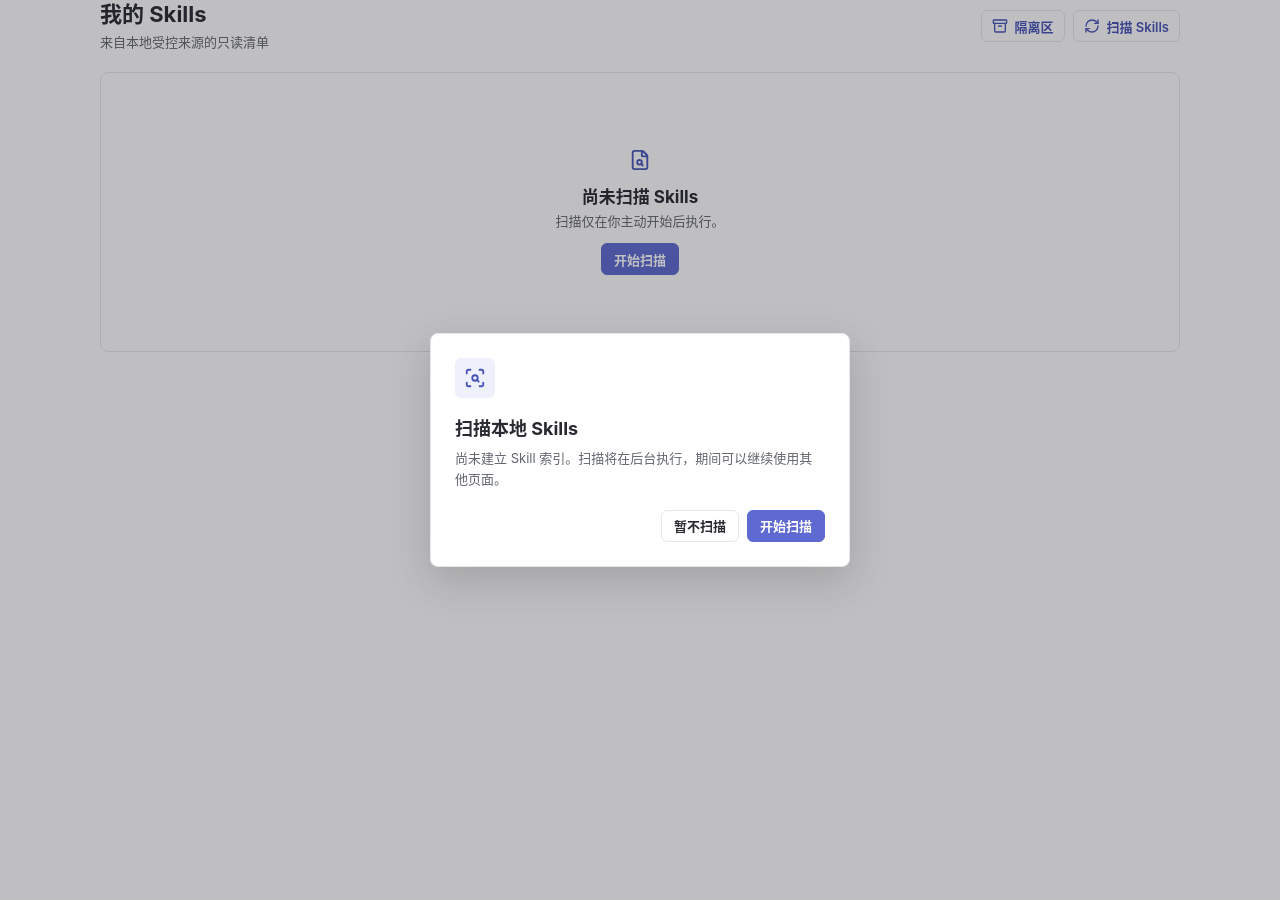
Test: SkillsPage › starts the first scan only after explicit confirmation
Click the button "开始扫描".
click(786, 526)  # box [747, 510, 825, 542]
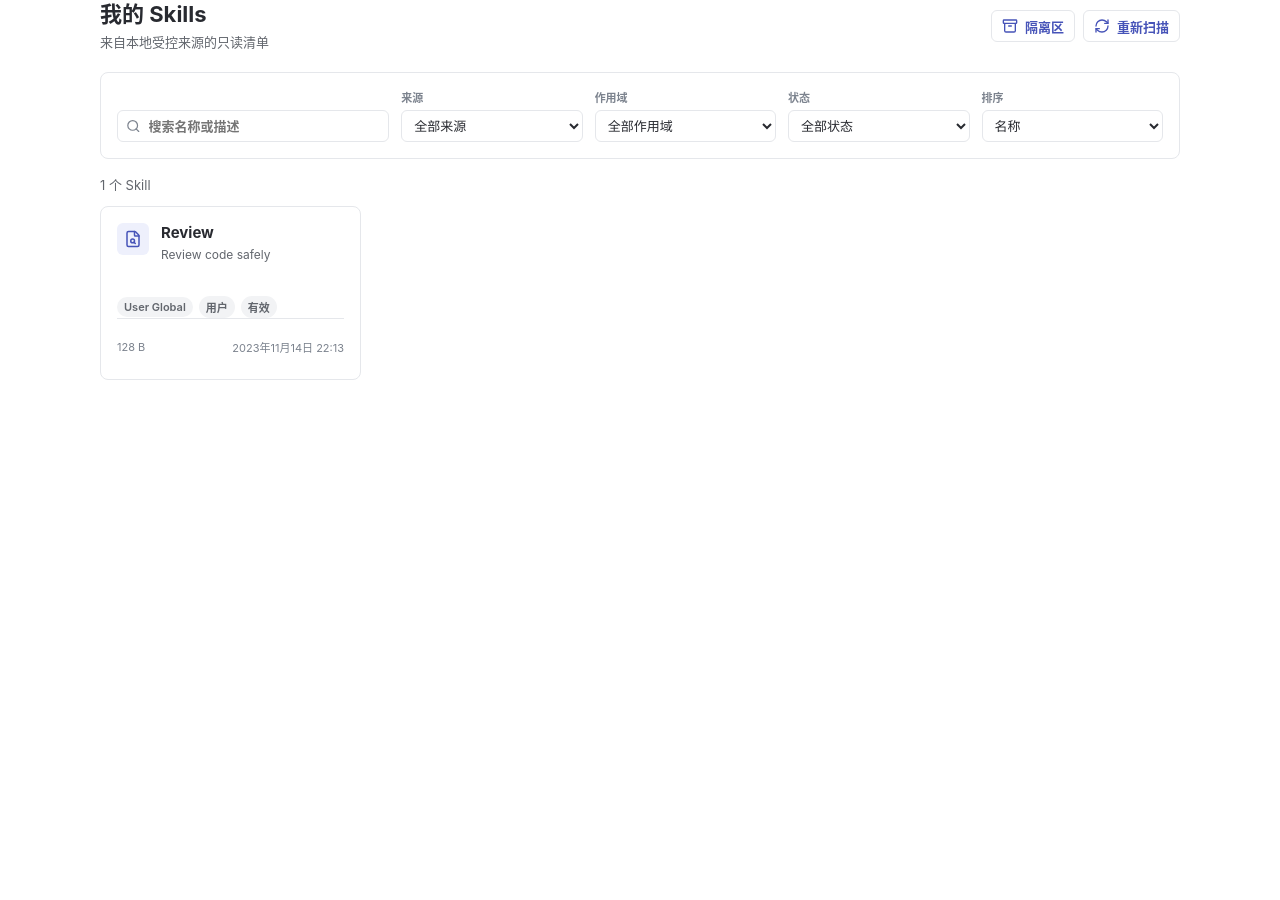
Check: the heading "Review" is shown, box [161, 223, 214, 242]
